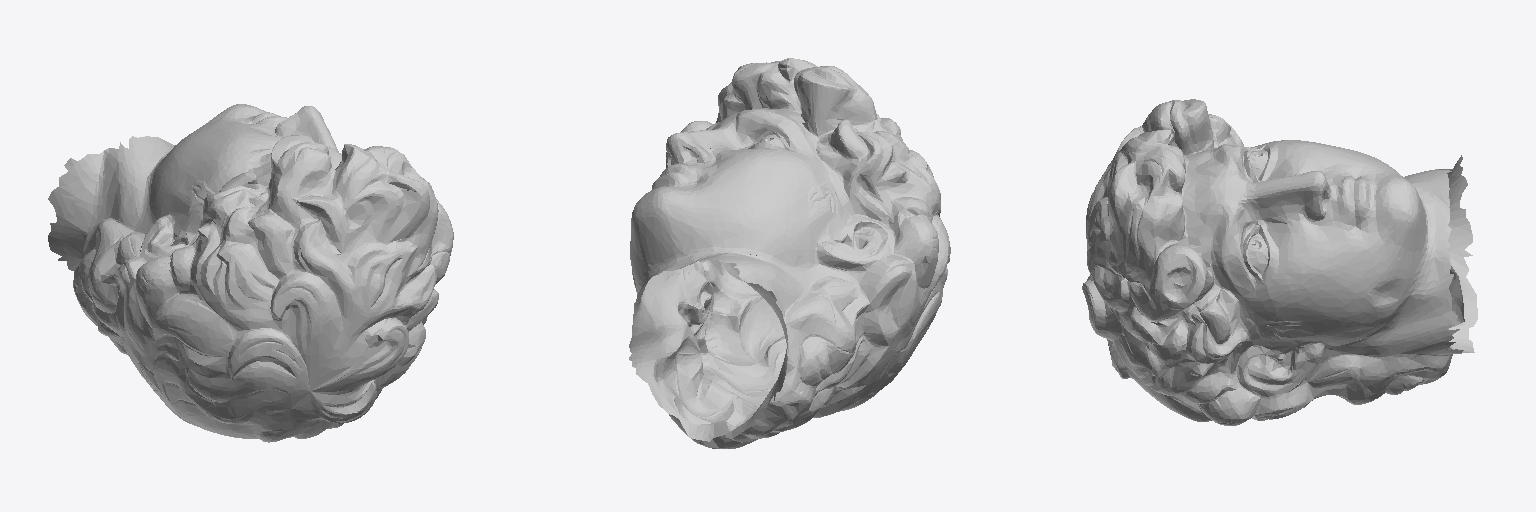
File: DavidHeadCleanMax.obj
The picture shows the model from 3 angles: view 1: azimuth 30°, elevation 25°; view 2: azimuth 150°, elevation 25°; view 3: azimuth 270°, elevation 25°; orthographic projection.
Bounding box in the file's own units: 0.2458 × 0.2508 × 0.297.